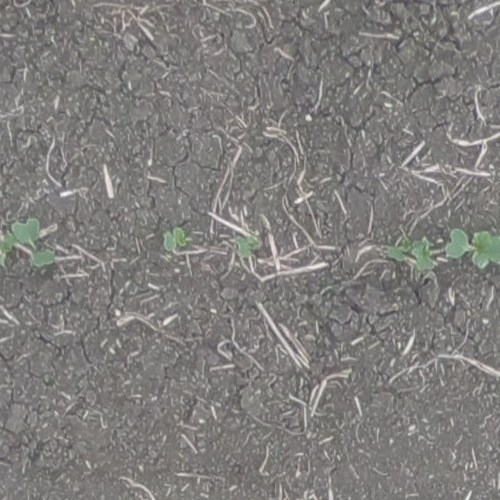plant: (0, 220, 57, 268), (443, 228, 499, 266), (389, 239, 435, 269), (235, 232, 263, 262), (162, 228, 186, 253)
